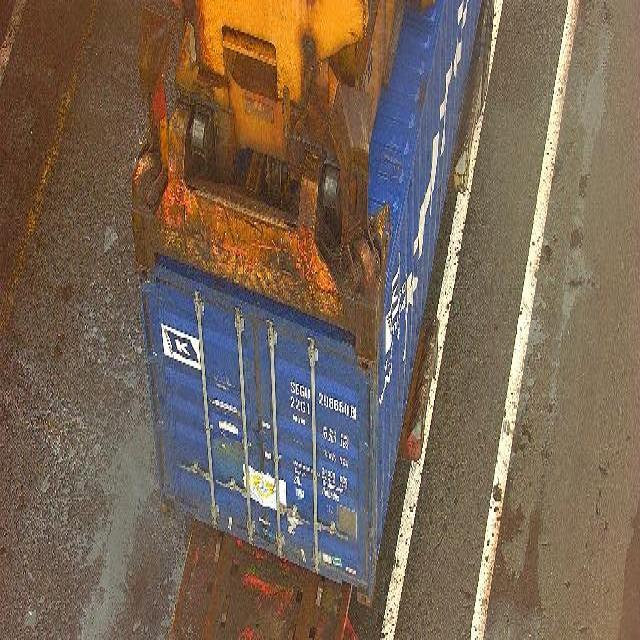ISO: (286, 398, 314, 413)
container_number: (290, 378, 357, 421)
